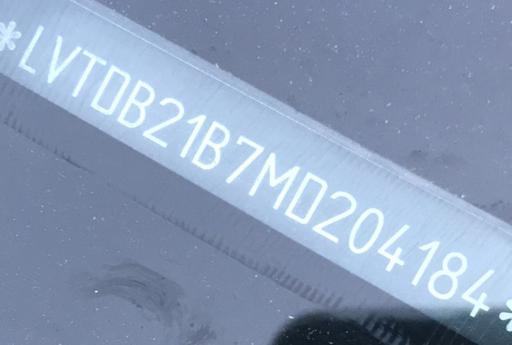letter: (248, 151, 302, 212), (283, 170, 329, 225), (312, 189, 358, 244), (142, 94, 184, 150), (114, 77, 156, 131), (90, 64, 132, 116), (426, 250, 468, 302), (188, 120, 230, 171), (224, 133, 264, 184), (70, 47, 108, 98), (345, 206, 385, 254), (46, 33, 82, 84), (460, 267, 494, 318), (376, 224, 410, 273), (17, 22, 45, 78), (410, 238, 440, 289), (178, 111, 206, 161)
